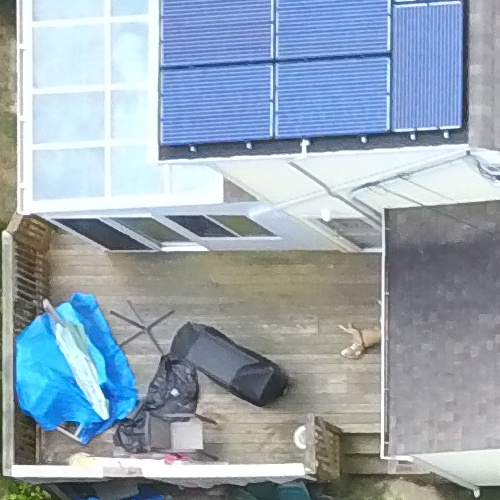porch: (1, 201, 469, 496)
tarp: (8, 288, 151, 439)
